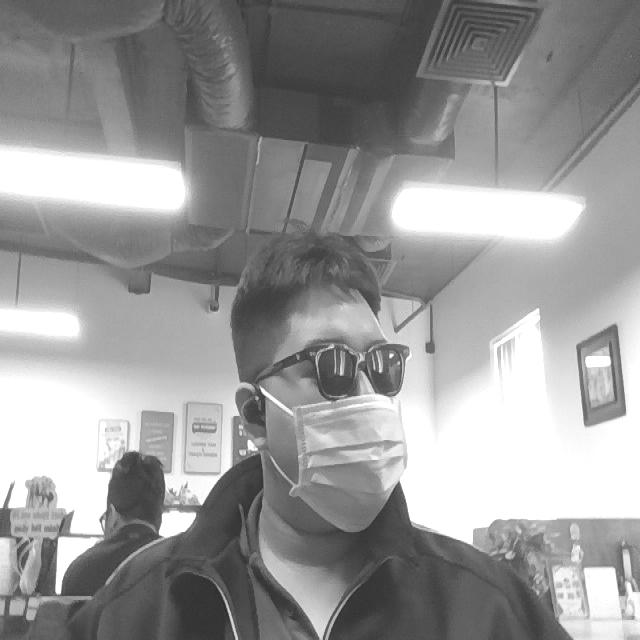fake: (295, 395, 412, 536), (269, 336, 417, 402)
